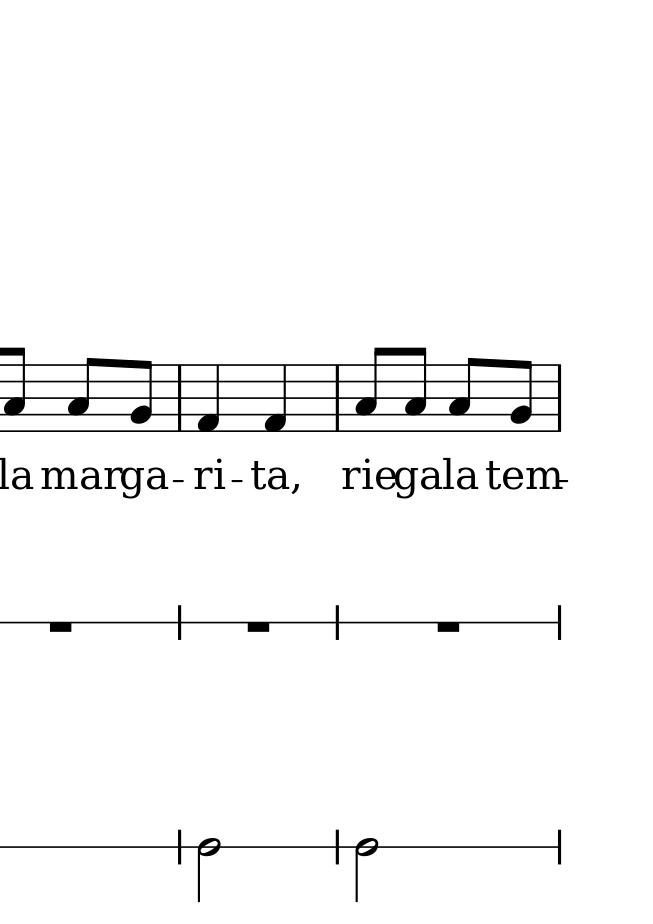2_4: (194, 837, 222, 907), (352, 835, 380, 905)
4_1: (194, 364, 223, 434), (261, 363, 289, 432)
8_2: (508, 357, 535, 437), (127, 356, 154, 435)
8_3: (354, 344, 387, 431), (447, 354, 481, 435), (66, 356, 99, 436), (400, 346, 428, 434), (4, 346, 27, 435)
Rests1: (431, 618, 470, 643), (47, 616, 80, 637), (244, 619, 272, 636)
Single_barline: (550, 364, 567, 431), (173, 361, 188, 433), (329, 364, 345, 430)
